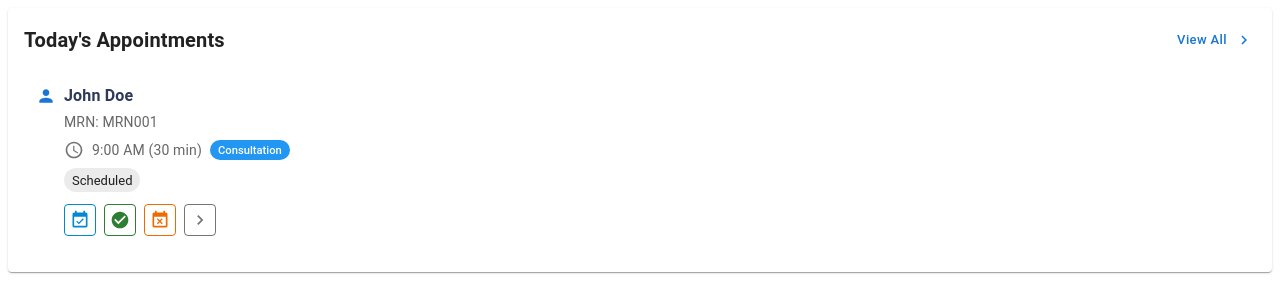
Test case: TodayAppointments › updates local state after successful status change
Expected: the text "scheduled" is shown, [72, 172, 132, 188]
Click the 2nd button.
click(80, 220)  # box [64, 204, 96, 236]
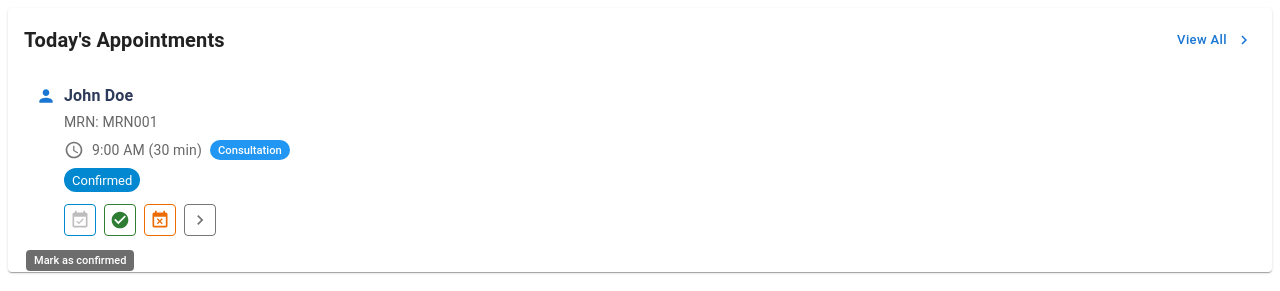
Result: the text "confirmed" is shown at [72, 172, 132, 188]
